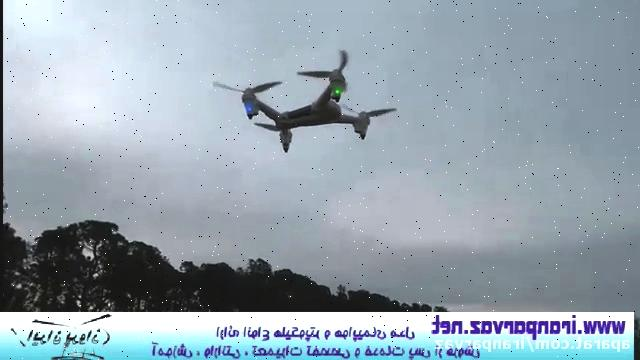drone: (212, 46, 400, 154)
